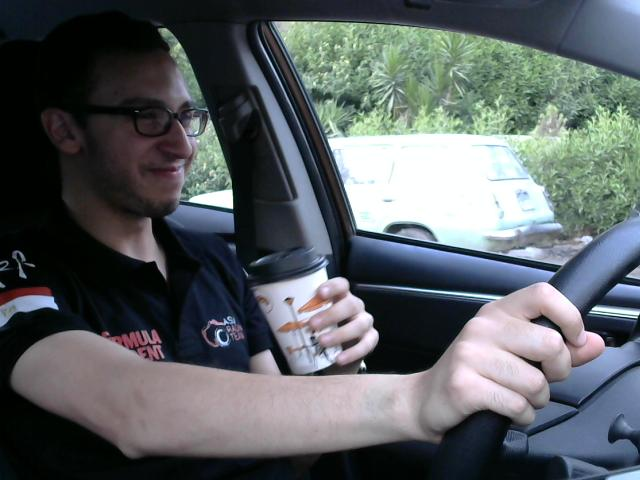Drinking: (246, 232, 363, 383)
